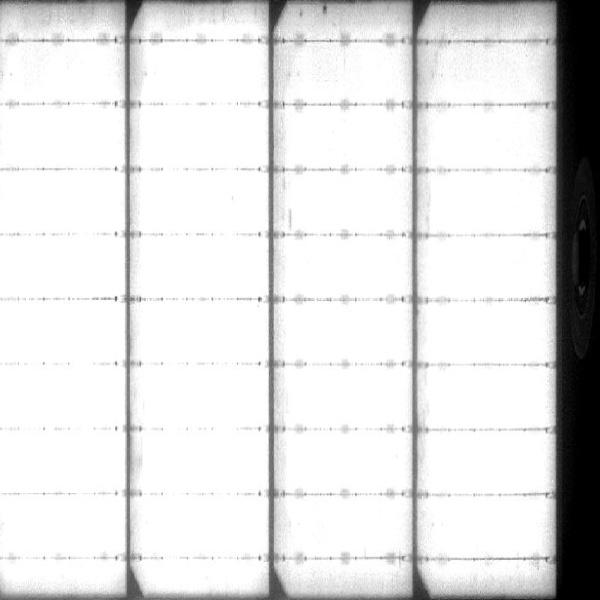hot_spot: (143, 434, 266, 491), (141, 306, 268, 361), (1, 496, 123, 552), (144, 369, 266, 425), (2, 239, 123, 295), (2, 435, 123, 489), (426, 373, 549, 426), (143, 239, 263, 293), (141, 500, 263, 553), (7, 369, 125, 423), (7, 110, 119, 166), (432, 497, 548, 551), (6, 304, 121, 358), (428, 242, 545, 294), (145, 178, 266, 228), (436, 175, 546, 230), (430, 437, 544, 489), (288, 435, 402, 487), (433, 311, 551, 361), (6, 175, 120, 226), (430, 115, 543, 166), (290, 111, 403, 162), (291, 309, 404, 360), (289, 502, 399, 554), (292, 372, 406, 422), (292, 244, 406, 293), (299, 180, 405, 229), (144, 115, 261, 159), (148, 49, 257, 93), (5, 561, 123, 591), (51, 51, 113, 97)
no_electricity: (554, 1, 600, 600)
